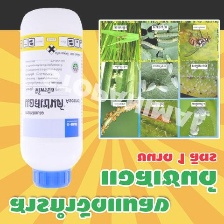insecticide: (16, 3, 86, 192)
